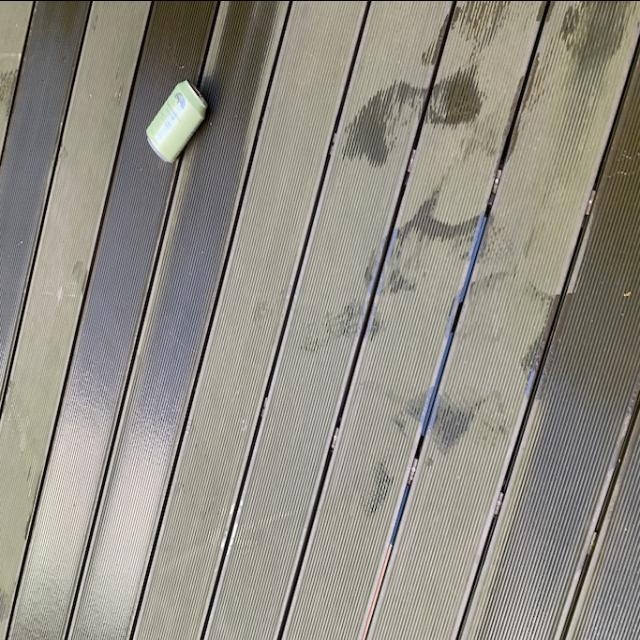Aluminum Can: (146, 75, 212, 164)
